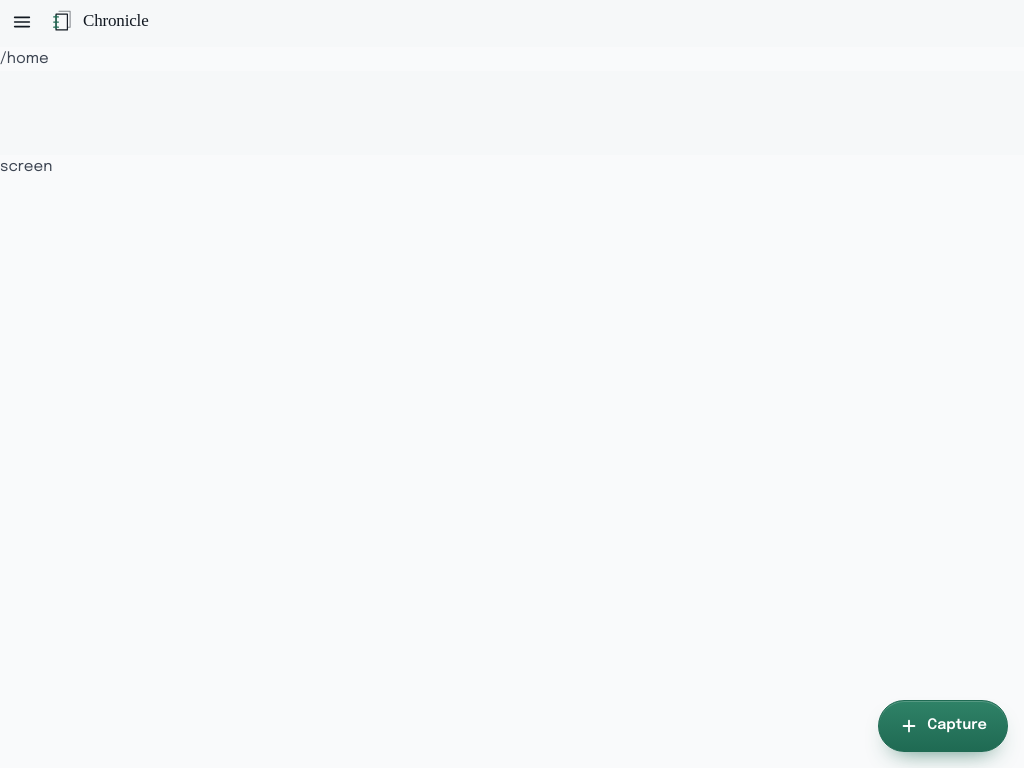
Test: mobile drawer › navigates to Notebook and closes afterwards
The width and height of the screenshot is (1024, 768).
Click the button with test id "nav-menu-button" at (22, 22), box [0, 0, 44, 44]
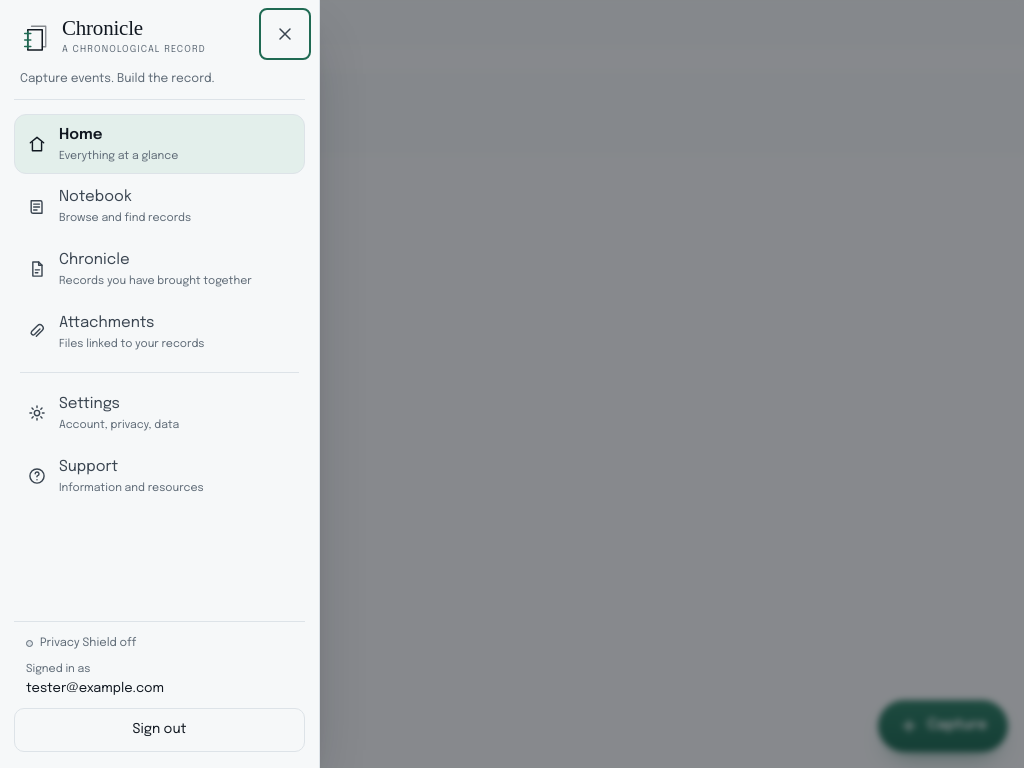
Now the dialog with test id "nav-drawer" is shown, box [0, 0, 320, 767]
Click the button "Notebook Browse and find records" at (95, 197), box [14, 176, 305, 237]
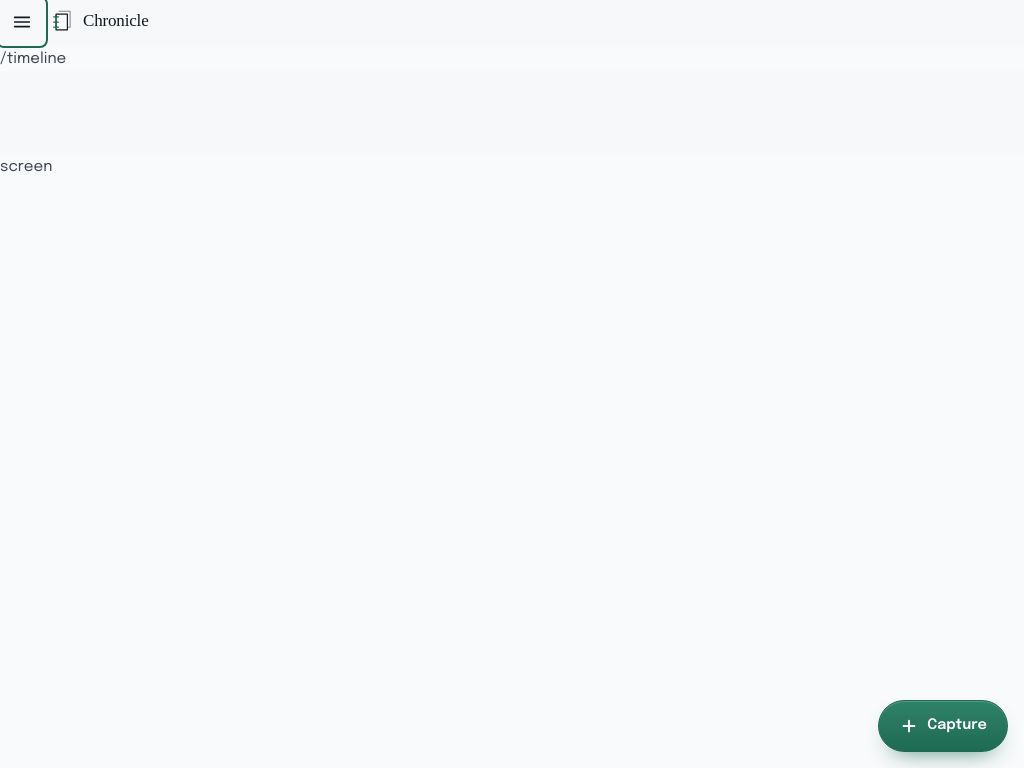
Now the text with test id "path" reads "/timeline", box [0, 51, 66, 67]
Now the dialog with test id "nav-drawer" is gone
